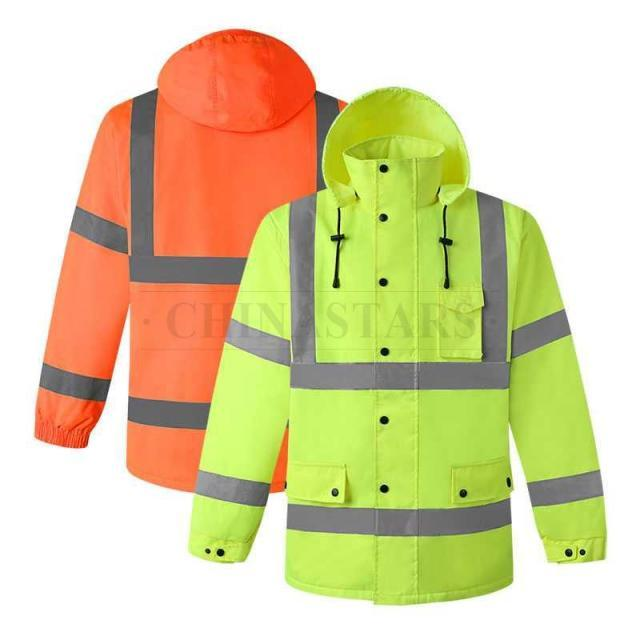reflective_jacket: (165, 178, 630, 613), (34, 86, 348, 498)
